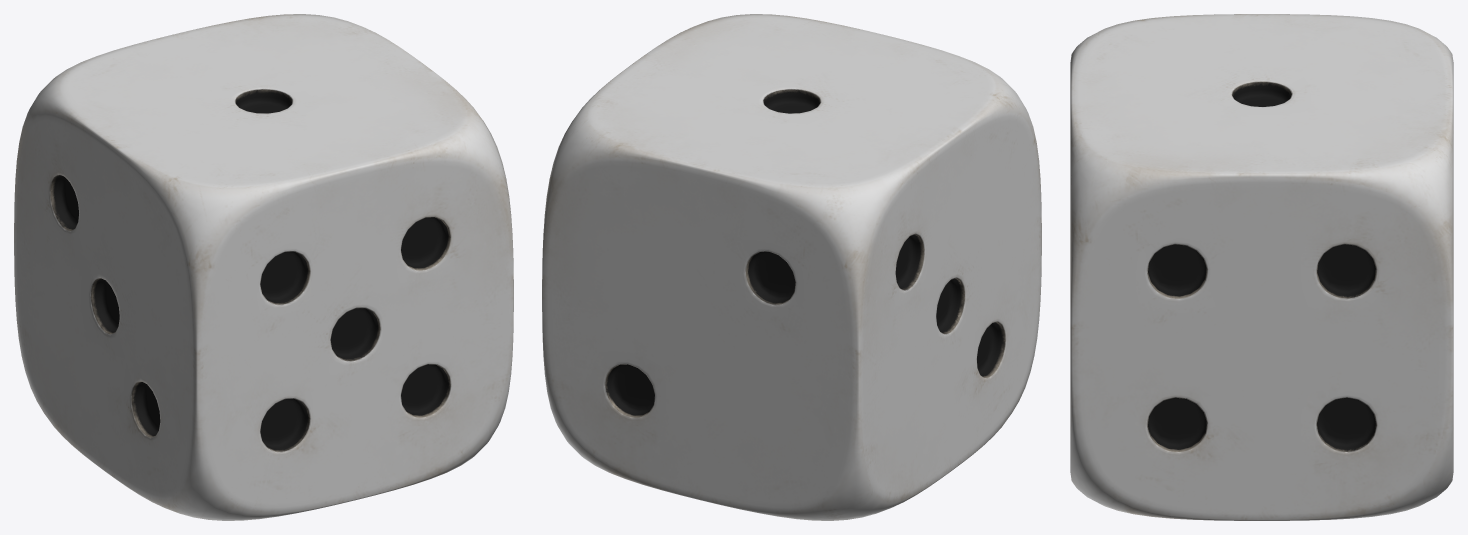
Rendered from free_dice_model_d6_mid-poly_4k.glb.
3 renders of one model, left to right at view 1: azimuth 30°, elevation 25°; view 2: azimuth 150°, elevation 25°; view 3: azimuth 270°, elevation 25°, orthographic. The views are drawn at different scales.
Visible parts, largest first — view 1: high poly.004_Dice_Mat_0; view 2: high poly.004_Dice_Mat_0; view 3: high poly.004_Dice_Mat_0.
Part boxes in pixels (x1,y1,x2,y2): high poly.004_Dice_Mat_0: [14, 14, 513, 520]; high poly.004_Dice_Mat_0: [542, 14, 1041, 520]; high poly.004_Dice_Mat_0: [1070, 14, 1453, 520].
Bounding box in the file's own units: 0.0194 × 0.0194 × 0.0194.
1 material, 1 textured.
